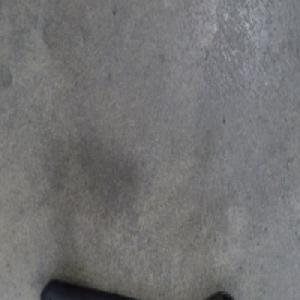AdjustableWrench: (41, 275, 204, 300)
